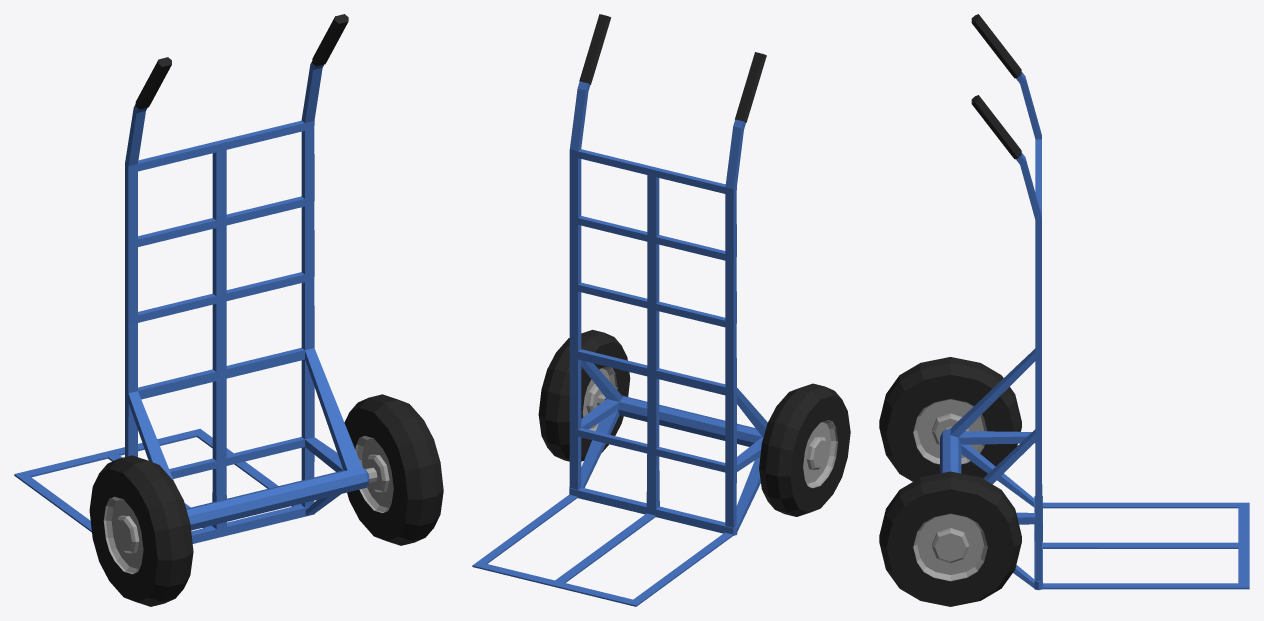
File: CarrinhoDeCarga_A01.fbx
The picture shows the model from 3 angles, left to right: view 1: azimuth 30°, elevation 25°; view 2: azimuth 150°, elevation 25°; view 3: azimuth 270°, elevation 25°; orthographic projection. The views are drawn at different scales.
Visible parts, largest first — view 1: Carrinho; view 2: Carrinho; view 3: Carrinho.
Boxes of the visible parts, x1,y1,x2,y2 form: Carrinho: [14, 14, 443, 606]; Carrinho: [472, 14, 850, 606]; Carrinho: [879, 14, 1249, 606].
Bounding box in the file's own units: 26.47 × 46.18 × 31.64.
